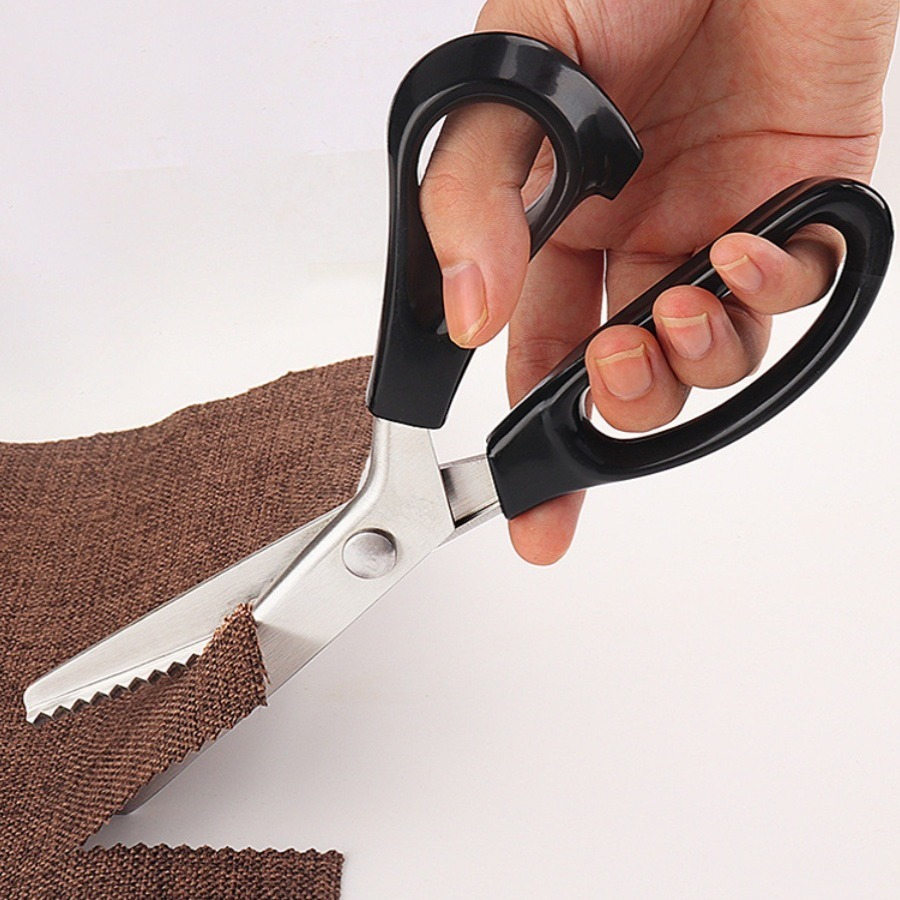scissors: (17, 17, 896, 841)
